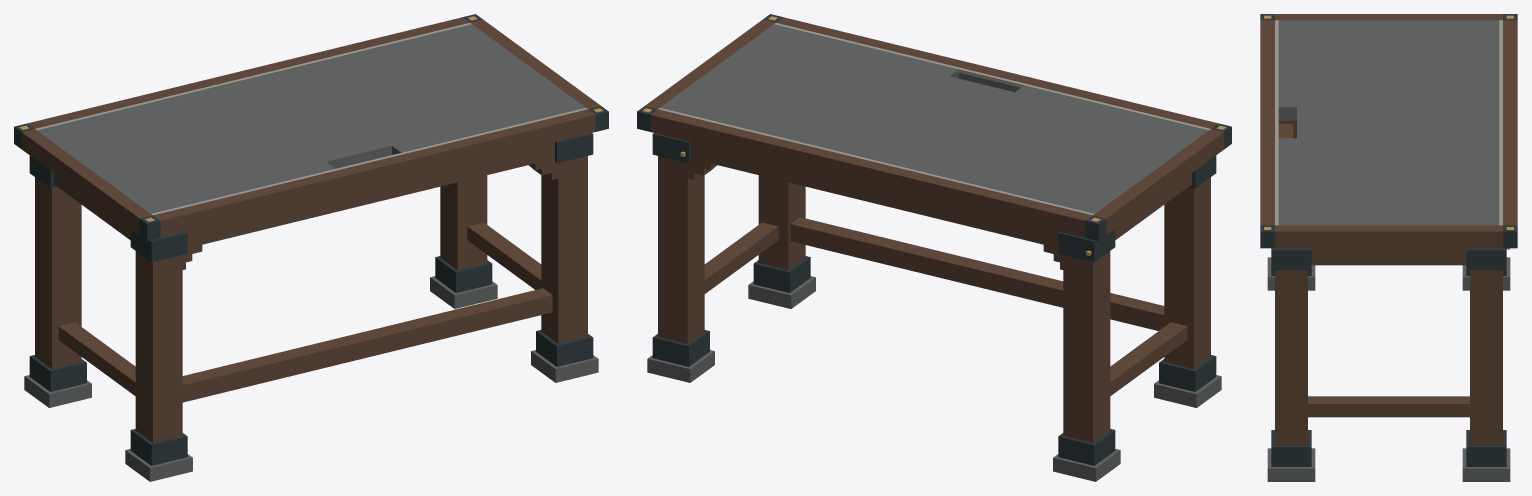
Rendered from visual-far.glb.
3 views of the same model, side by side, from view 1: azimuth 30°, elevation 25°; view 2: azimuth 150°, elevation 25°; view 3: azimuth 270°, elevation 25° (orthographic). The views are drawn at different scales.
Visible parts, largest first — view 1: 办公桌桌架; view 2: 办公桌桌架; view 3: 办公桌桌架.
Boxes of the visible parts, x1=… form: 办公桌桌架: x1=14, y1=14, x2=608, y2=481; 办公桌桌架: x1=637, y1=14, x2=1231, y2=481; 办公桌桌架: x1=1260, y1=14, x2=1517, y2=481.
Bounding box in the file's own units: 1.4 × 0.76 × 0.7.
Materials: 6 (6 with a texture image).
